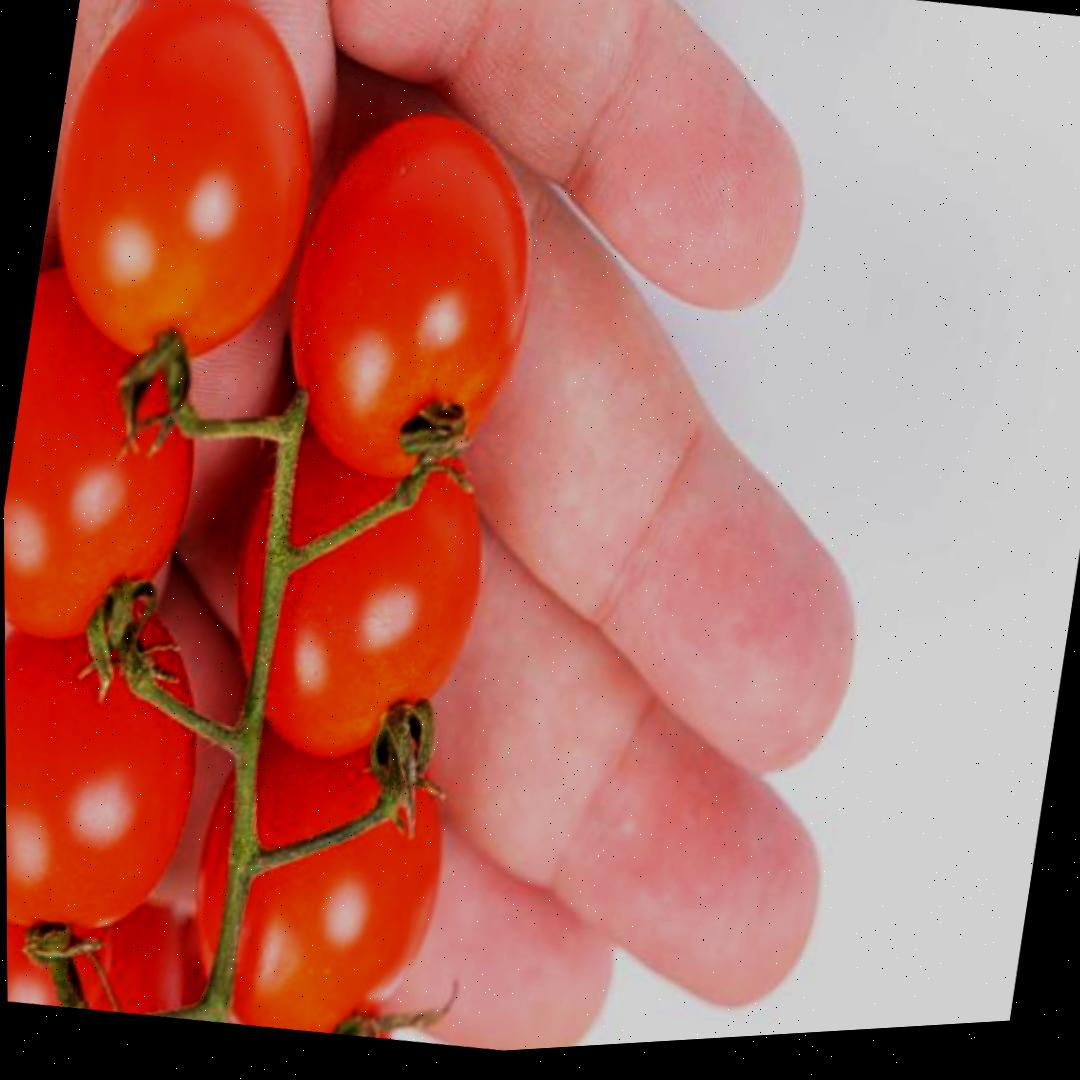matang: (261, 90, 555, 502), (210, 380, 504, 784), (33, 0, 338, 389), (171, 667, 469, 1056), (2, 248, 223, 657), (4, 559, 224, 953)
